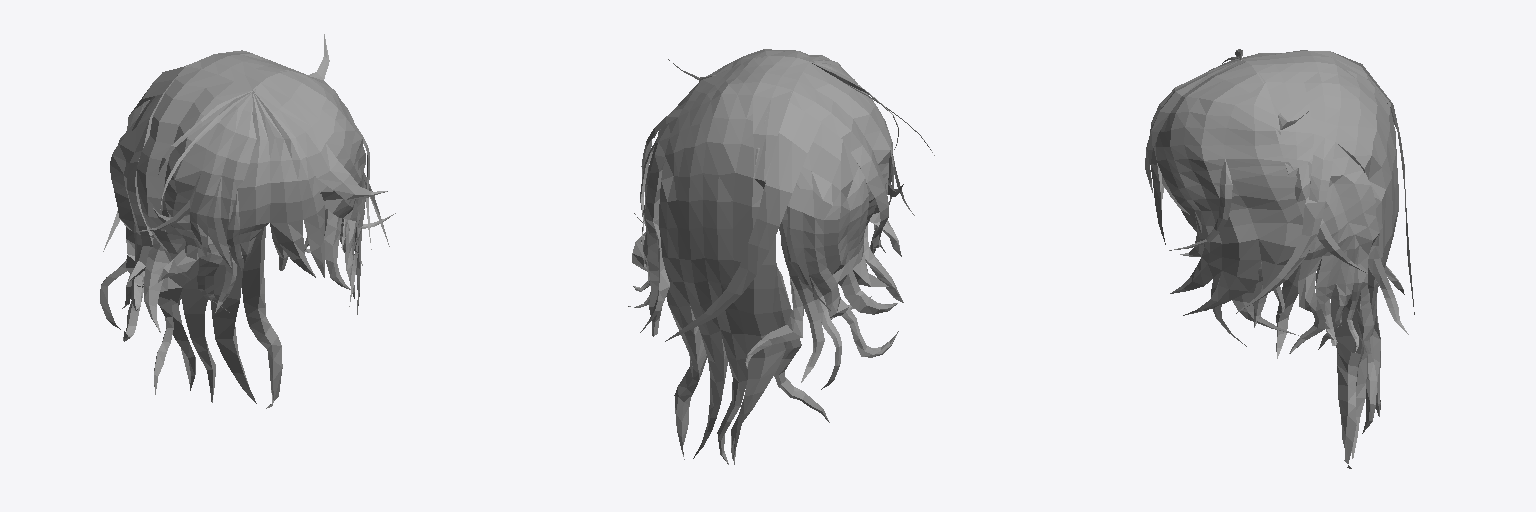
The model's file is hair.obj.
3 renders of one model, left to right at view 1: azimuth 30°, elevation 25°; view 2: azimuth 150°, elevation 25°; view 3: azimuth 270°, elevation 25°, orthographic.
Visible parts, largest first — view 1: 髪_封獣ぬえ2.2_mesh_封獣ぬえ2.024; view 2: 髪_封獣ぬえ2.2_mesh_封獣ぬえ2.024; view 3: 髪_封獣ぬえ2.2_mesh_封獣ぬえ2.024.
Boxes of the visible parts, x1,y1,x2,y2 form: 髪_封獣ぬえ2.2_mesh_封獣ぬえ2.024: [100, 34, 395, 408]; 髪_封獣ぬえ2.2_mesh_封獣ぬえ2.024: [628, 49, 934, 464]; 髪_封獣ぬえ2.2_mesh_封獣ぬえ2.024: [1145, 49, 1414, 468].
Size of the model in its own units: 0.3725 by 0.4903 by 0.3144.